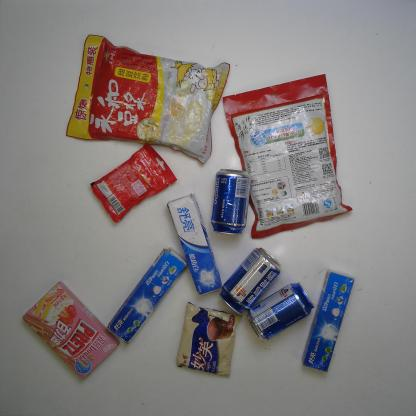Alcohol: (219, 245, 283, 316), (244, 282, 314, 341), (211, 169, 252, 236)
Candy: (91, 141, 178, 224)
Dessert: (22, 282, 119, 382), (175, 300, 242, 380)
Instant Drink: (64, 32, 232, 166), (221, 72, 355, 238)
Personal Hygiene: (107, 248, 188, 344), (166, 193, 222, 295), (301, 270, 356, 372)
